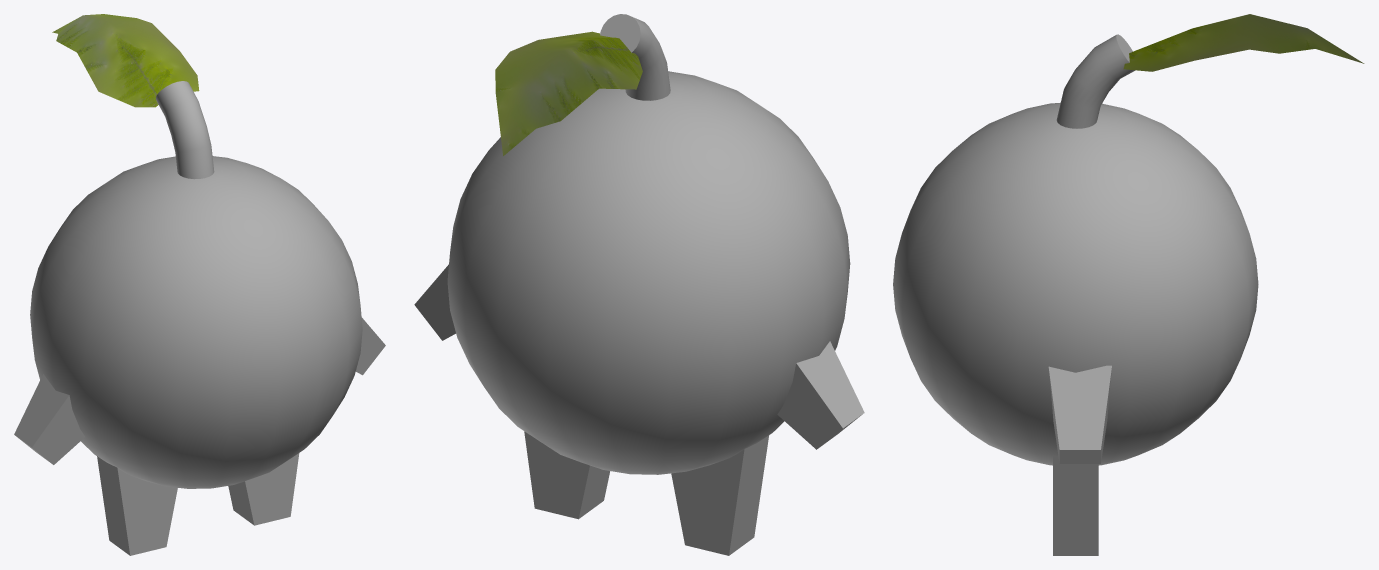
The model's file is Hijo_Char_1.fbx.
3 views of the same model, side by side, from view 1: azimuth 30°, elevation 25°; view 2: azimuth 150°, elevation 25°; view 3: azimuth 270°, elevation 25° (orthographic). The views are drawn at different scales.
Visible parts, largest first — view 1: Hijo__Char_1; view 2: Hijo__Char_1; view 3: Hijo__Char_1.
Boxes of the visible parts, box(x1,y1,x2,y2) form: Hijo__Char_1: box(14, 14, 385, 555); Hijo__Char_1: box(414, 14, 864, 555); Hijo__Char_1: box(893, 14, 1364, 555).
Size of the model in its own units: 28.46 by 34.67 by 30.11.
